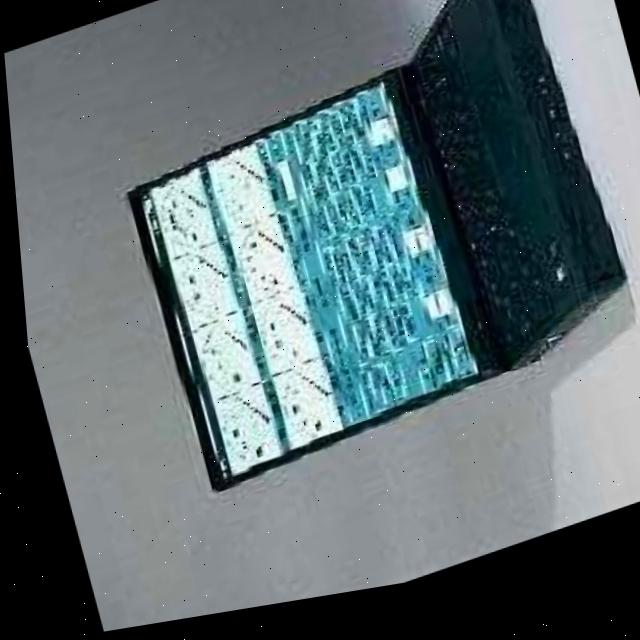laptop: (110, 0, 627, 512)
